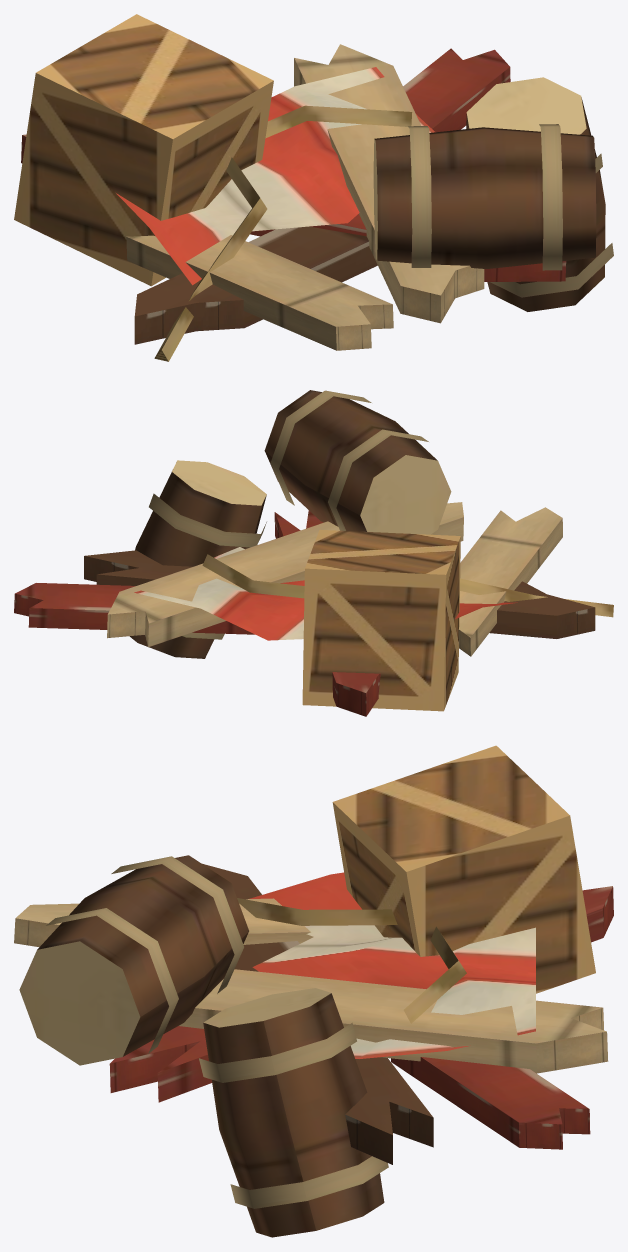
Rendered from flotsam.glb.
3 views of the same model, one above another, from view 1: azimuth 30°, elevation 25°; view 2: azimuth 150°, elevation 25°; view 3: azimuth 270°, elevation 25° (orthographic). The views are drawn at different scales.
Visible parts, largest first — view 1: Flotsam; view 2: Flotsam; view 3: Flotsam.
Boxes of the visible parts, left/top/right/bottom form: Flotsam: left=14, top=14, right=613, bottom=361; Flotsam: left=14, top=390, right=613, bottom=716; Flotsam: left=14, top=745, right=613, bottom=1237.
Bounding box in the file's own units: 1.18 × 0.5533 × 1.09.
Materials: 4 (4 with a texture image).
